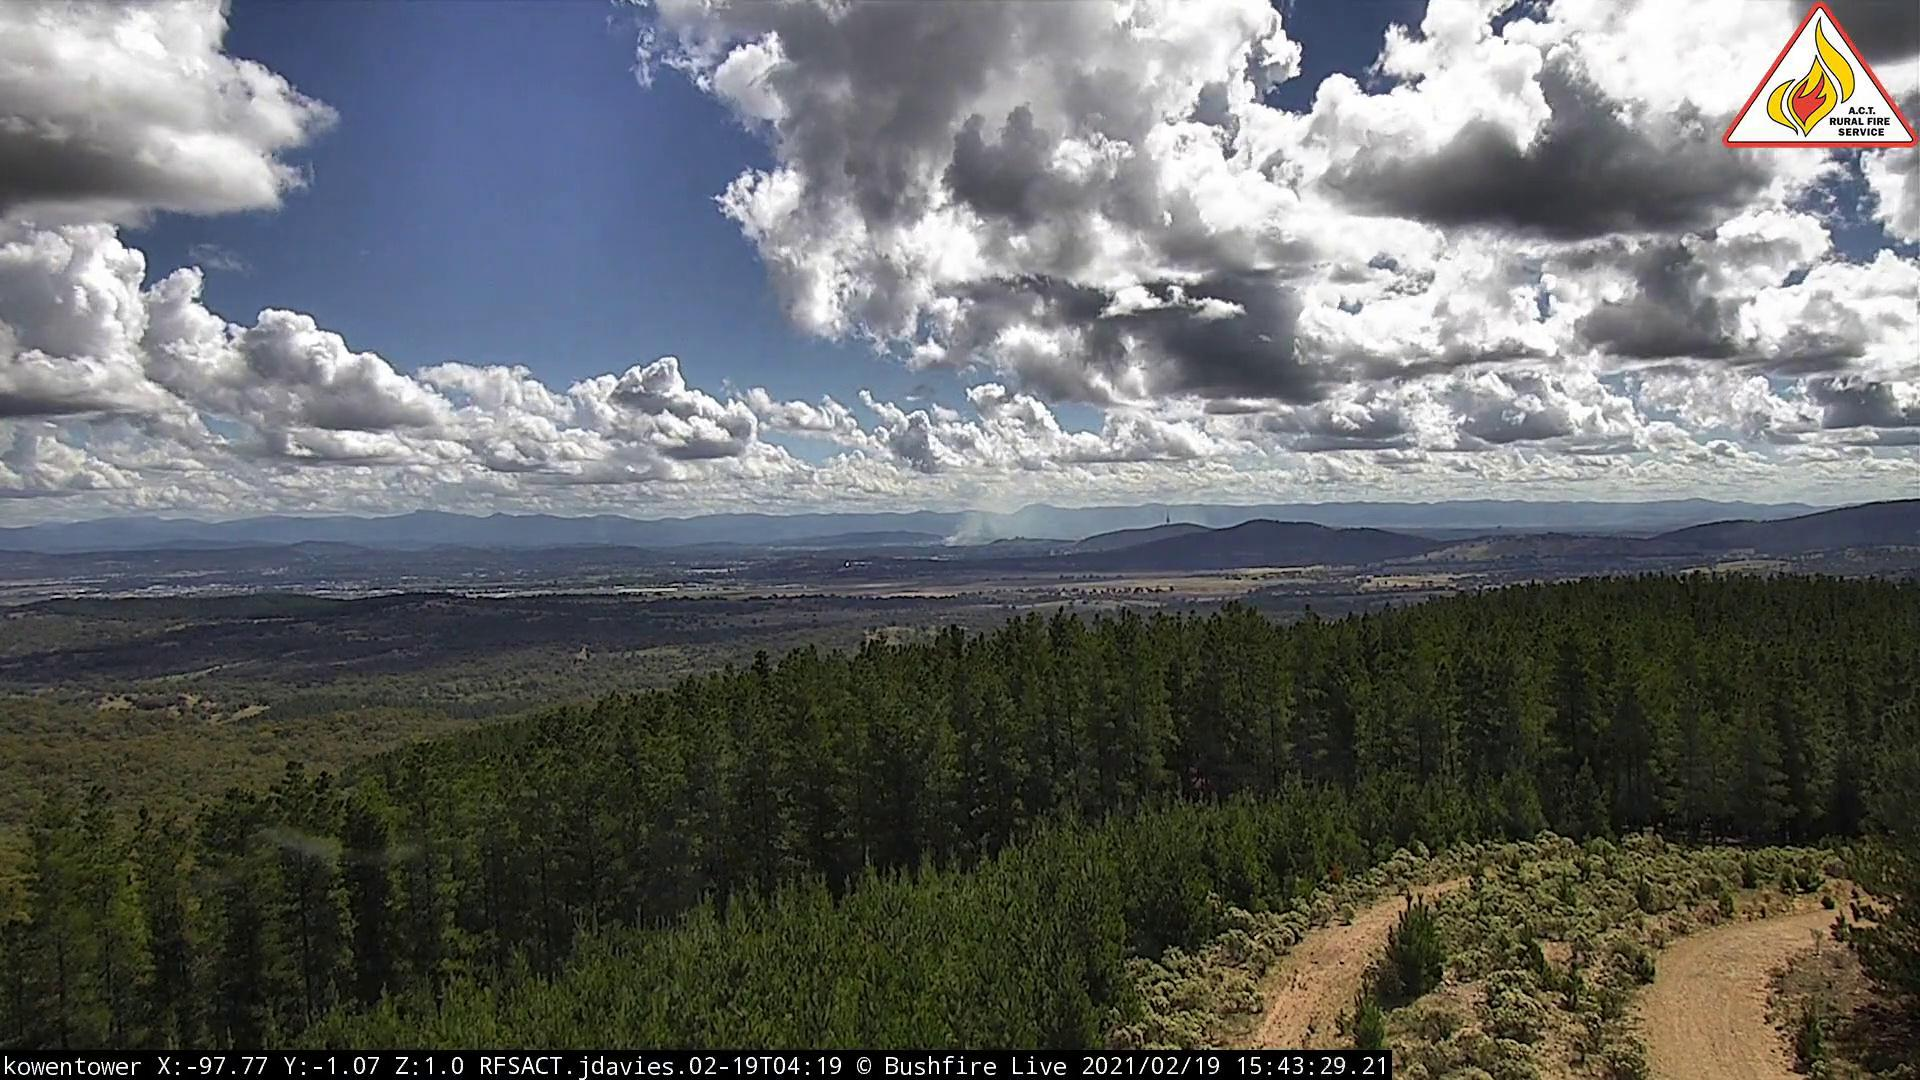Smoke: (939, 504, 1014, 553), (595, 534, 618, 554)
